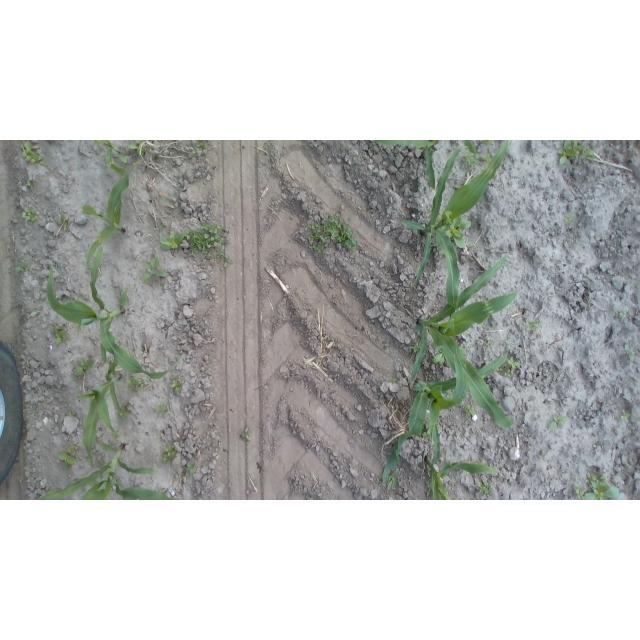Maize: (409, 256, 526, 428), (380, 347, 510, 500), (48, 263, 188, 381), (403, 140, 510, 286), (83, 141, 157, 316), (34, 443, 177, 500), (73, 377, 131, 464)
Weeds: (187, 217, 234, 269), (308, 216, 358, 257), (573, 466, 627, 498), (435, 212, 473, 253), (558, 141, 599, 167), (158, 227, 186, 253), (144, 255, 169, 284), (20, 143, 45, 167), (237, 426, 262, 450), (56, 446, 79, 471), (71, 359, 99, 379), (500, 356, 521, 380), (622, 337, 638, 366), (547, 412, 570, 432), (185, 142, 212, 159), (47, 323, 66, 345), (125, 378, 151, 394), (384, 470, 403, 491), (476, 481, 497, 499), (58, 212, 73, 236), (170, 380, 187, 401), (185, 460, 202, 480), (125, 142, 151, 155), (12, 262, 31, 279), (617, 404, 631, 426), (525, 319, 541, 338), (164, 444, 178, 464), (151, 404, 171, 418), (464, 404, 478, 421), (24, 213, 41, 225), (561, 212, 576, 224), (616, 311, 631, 321), (485, 339, 496, 349)
